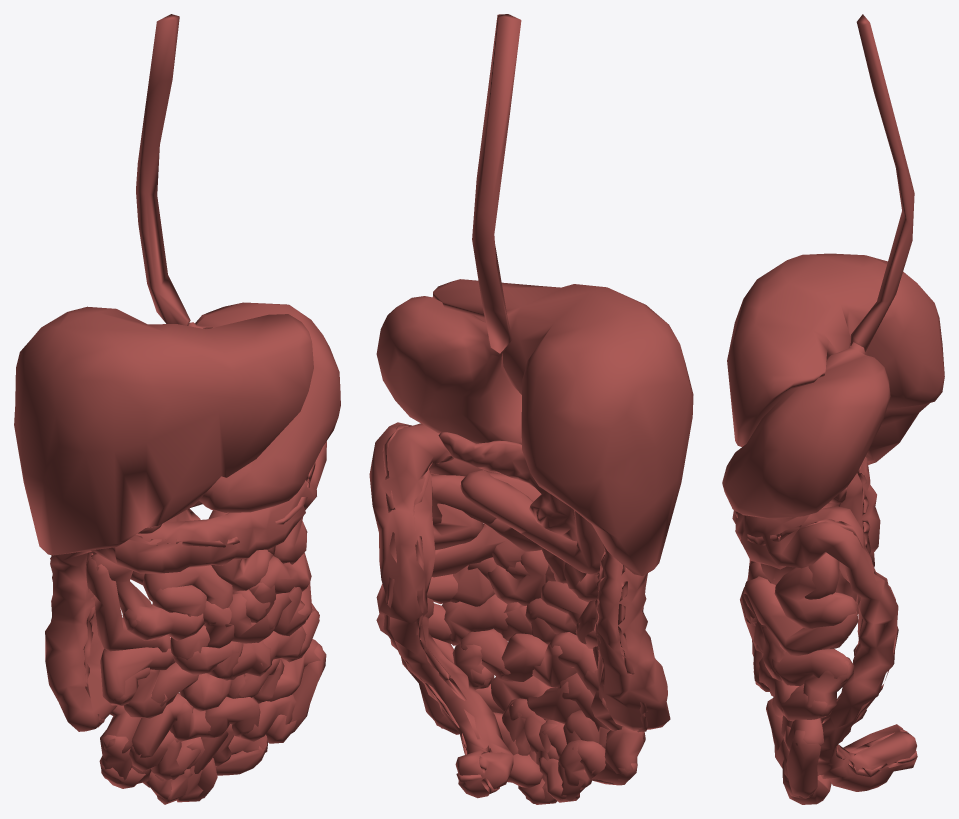
File: digestive.glb
3 views of the same model, side by side, from view 1: azimuth 30°, elevation 25°; view 2: azimuth 150°, elevation 25°; view 3: azimuth 270°, elevation 25° (orthographic). The views are drawn at different scales.
Parts seen in each view (by area): view 1: FMA7197, FMA7208, FMA7207, FMA14543nsn, FMA7148, FMA7131, FMA76892; view 2: FMA7197, FMA14543nsn, FMA7208, FMA7207, FMA7148, FMA7131, FMA7206, FMA7198nsn, FMA76892, FMA76891; view 3: FMA7197, FMA14543nsn, FMA7148, FMA7207, FMA7131, FMA7208, FMA76892, FMA76891.
Part boxes in pixels (box(x1,y1,x2,y2)): FMA7197: box(14, 306, 313, 555); FMA7208: box(99, 639, 326, 804); FMA7207: box(85, 516, 319, 680); FMA14543nsn: box(45, 441, 326, 731); FMA7148: box(188, 302, 340, 512); FMA7131: box(136, 14, 190, 325); FMA76892: box(50, 461, 315, 622); FMA7197: box(432, 279, 693, 575); FMA14543nsn: box(369, 422, 670, 798); FMA7208: box(401, 623, 645, 804); FMA7207: box(425, 470, 647, 645); FMA7148: box(376, 296, 521, 444); FMA7131: box(472, 14, 521, 353); FMA7206: box(460, 470, 604, 574); FMA7198nsn: box(438, 432, 577, 541); FMA76892: box(382, 425, 647, 781); FMA76891: box(413, 456, 609, 772); FMA7197: box(727, 253, 944, 464); FMA14543nsn: box(732, 457, 917, 791); FMA7148: box(722, 342, 890, 519); FMA7207: box(740, 552, 858, 721); FMA7131: box(850, 14, 914, 351); FMA7208: box(766, 648, 831, 804); FMA76892: box(735, 511, 917, 777); FMA76891: box(831, 465, 907, 755).
Bounding box in the file's own units: 0.2295 × 0.5898 × 0.1519.
